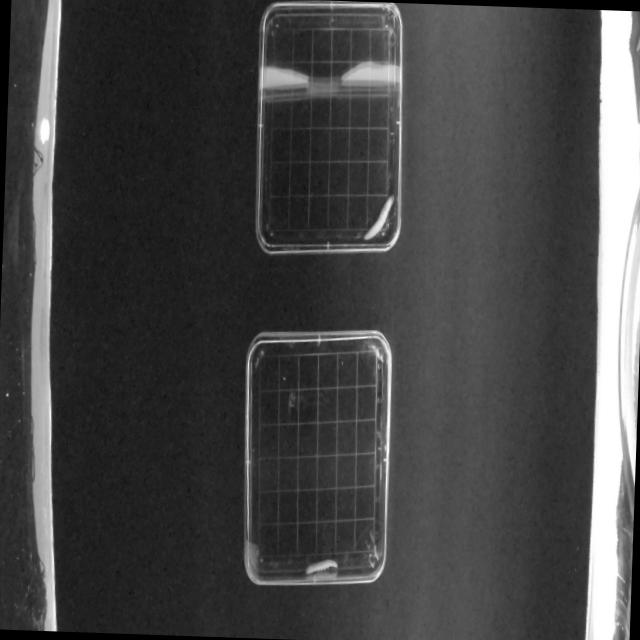larva: (363, 192, 392, 244), (304, 550, 338, 576)
